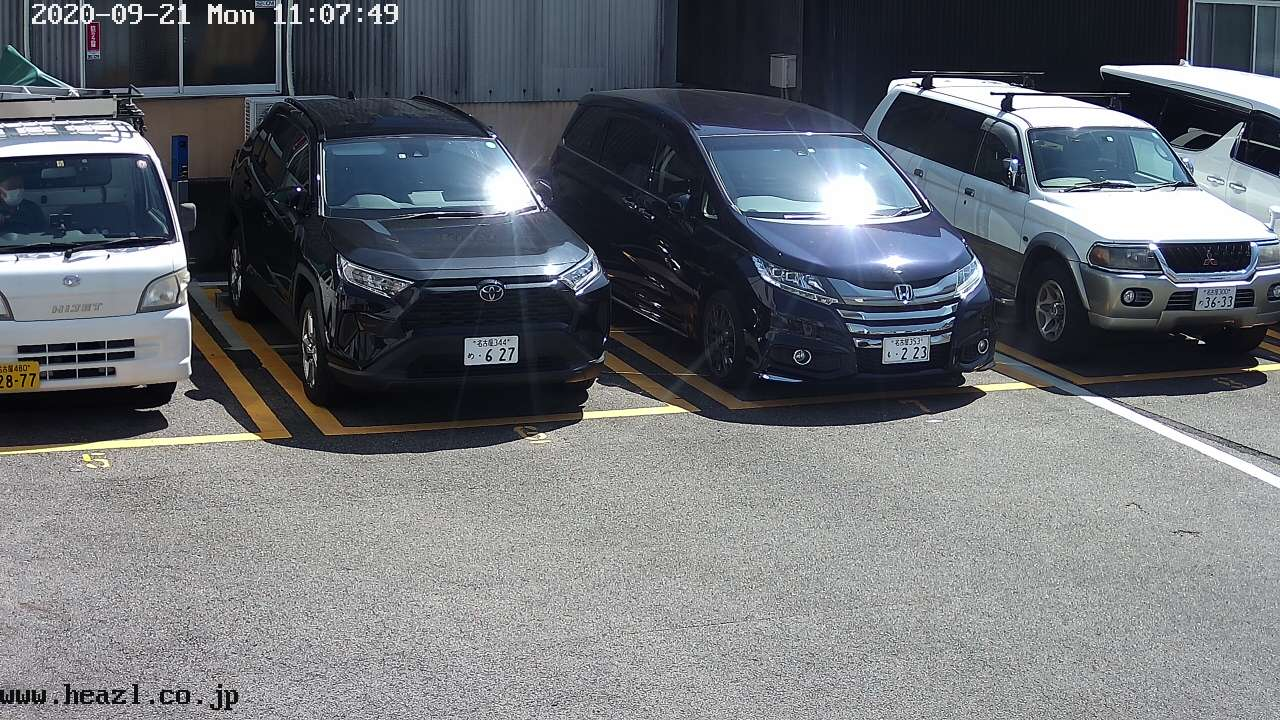number_plate: (464, 334, 516, 365), (882, 335, 931, 363), (1, 361, 37, 390), (1197, 287, 1236, 309)
